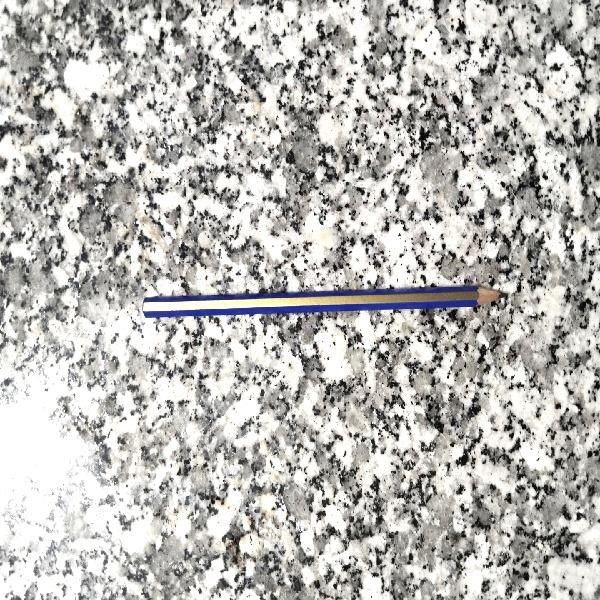pencil: (136, 286, 514, 324)
